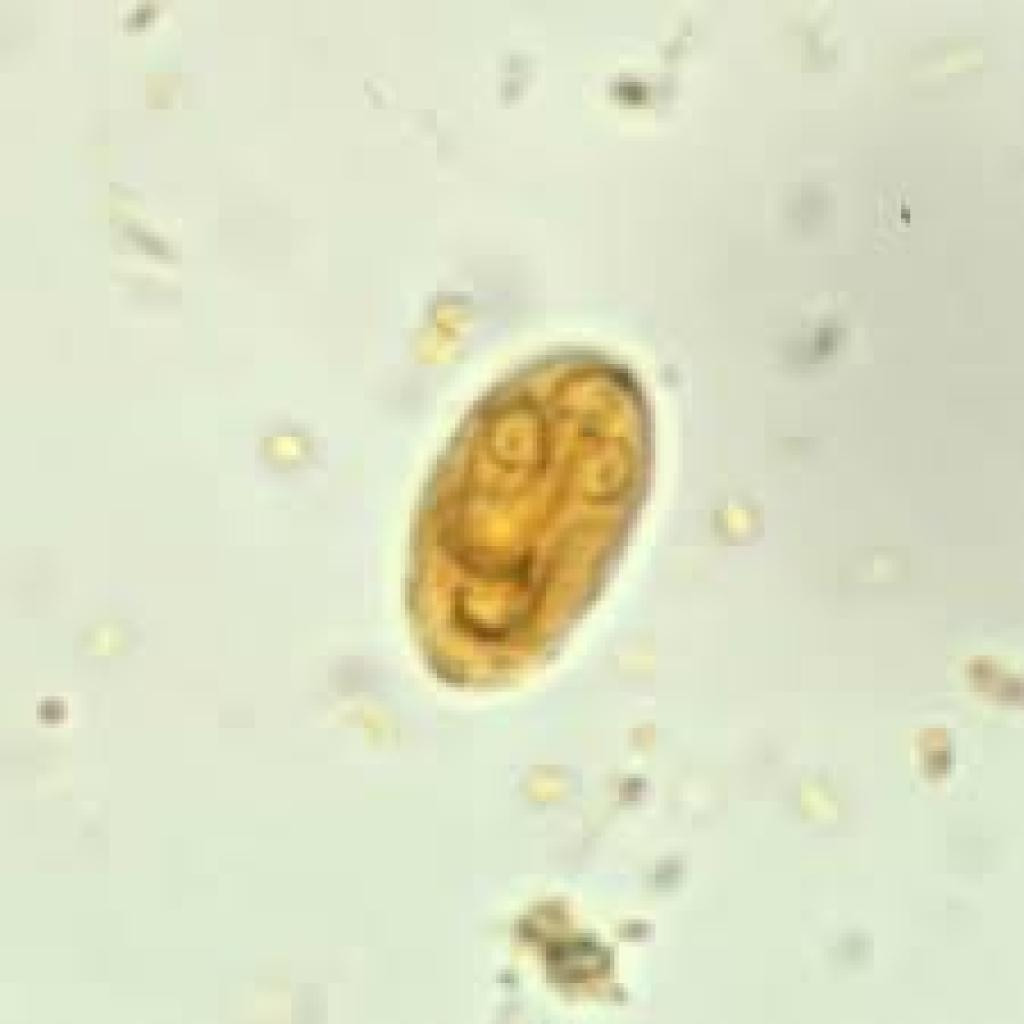Giardia: (387, 332, 664, 701)
